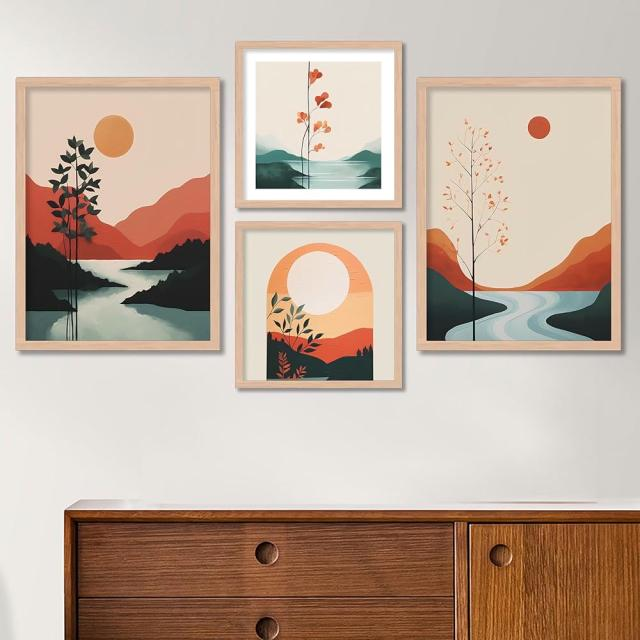painting: (14, 76, 223, 351), (418, 77, 627, 352), (236, 41, 402, 207), (237, 221, 403, 387)
